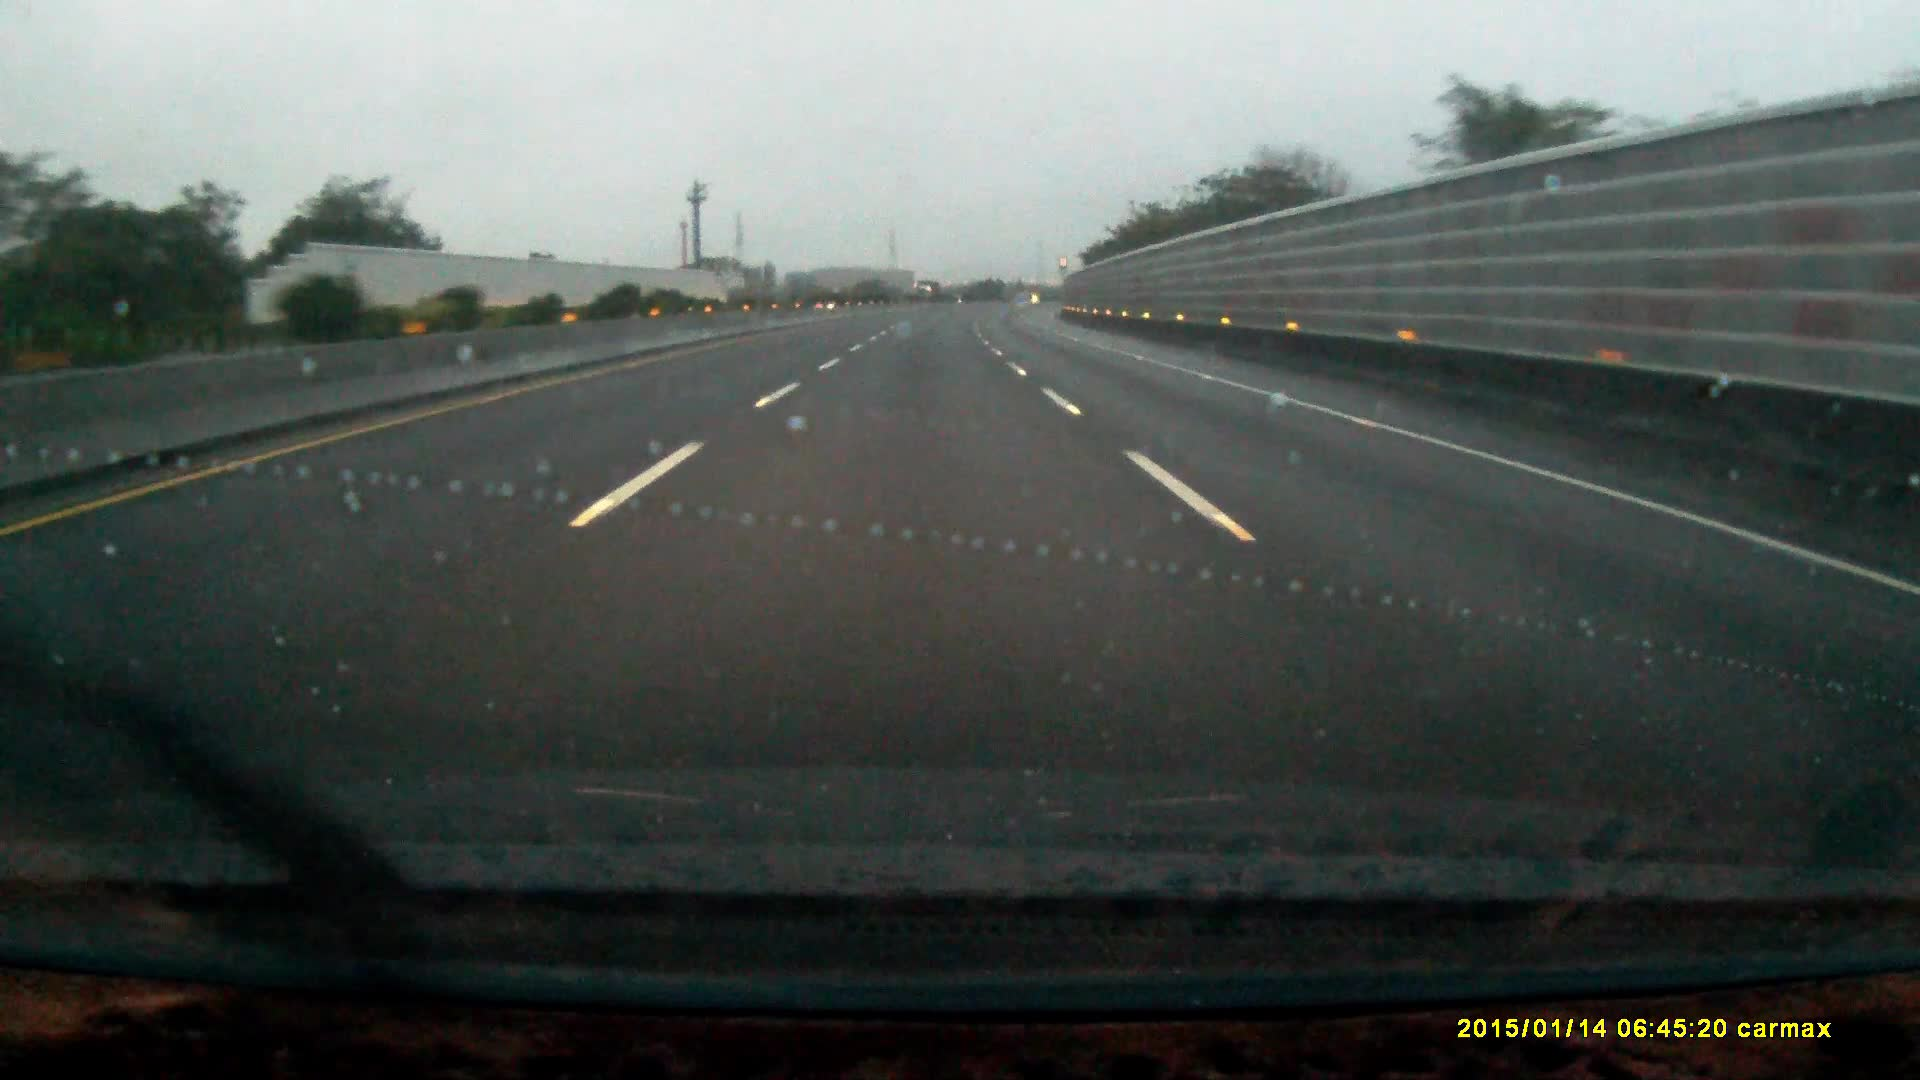vehicle: (914, 280, 942, 301)
